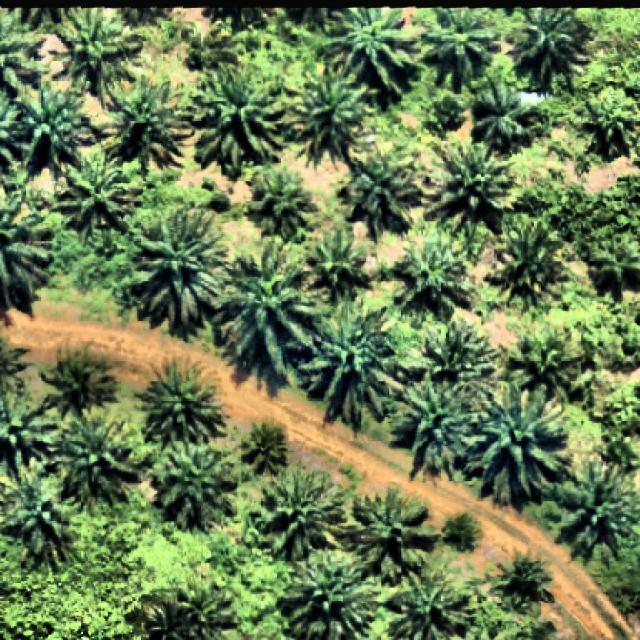Kelapa_Sawit: (215, 238, 333, 374), (300, 289, 408, 431), (467, 386, 576, 508), (128, 205, 230, 333), (189, 59, 291, 173), (389, 379, 489, 481), (348, 481, 440, 588), (336, 138, 427, 246), (98, 68, 194, 170), (424, 139, 522, 235), (288, 62, 378, 166), (148, 437, 242, 534), (54, 403, 138, 511), (136, 354, 229, 450), (12, 74, 97, 178), (555, 456, 640, 558), (50, 152, 138, 246), (263, 464, 348, 560), (390, 234, 479, 318), (487, 220, 570, 306), (408, 318, 506, 386), (247, 162, 315, 244), (48, 340, 119, 418), (507, 333, 584, 401), (472, 71, 534, 151), (306, 228, 377, 290), (496, 548, 558, 610), (242, 418, 290, 476)
